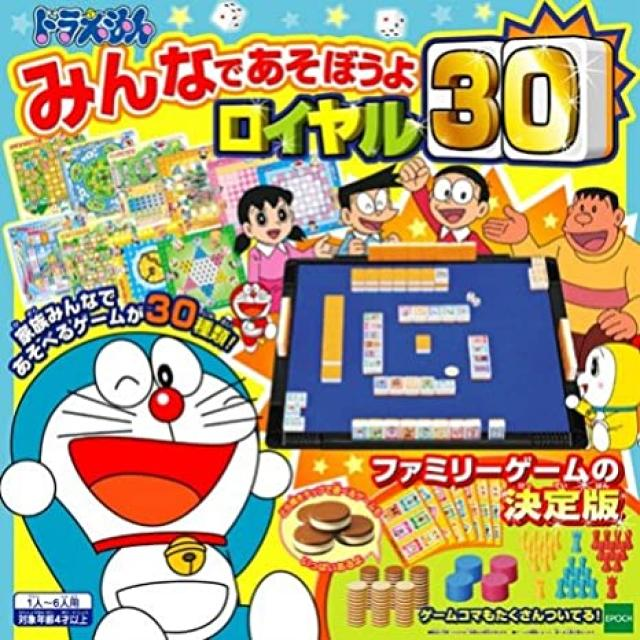jaian: (559, 184, 628, 255)
nobita: (423, 163, 493, 228)
shizuka: (228, 182, 308, 255)
suneo: (334, 165, 399, 236)
